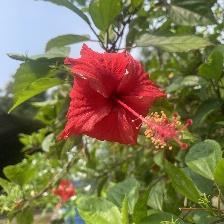hibiscus: (55, 42, 199, 164)
